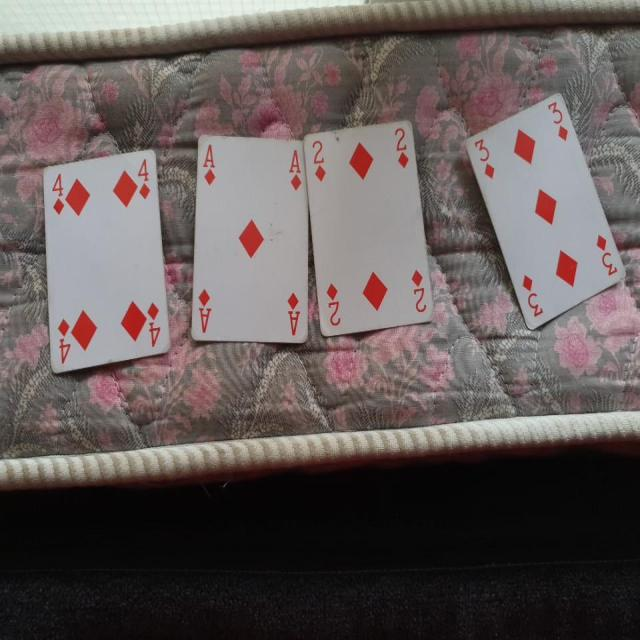2 Diamonds: (303, 116, 434, 340)
3 Diamonds: (464, 88, 629, 327)
4 Diamonds: (36, 143, 175, 378)
A Diamonds: (184, 122, 314, 341)
